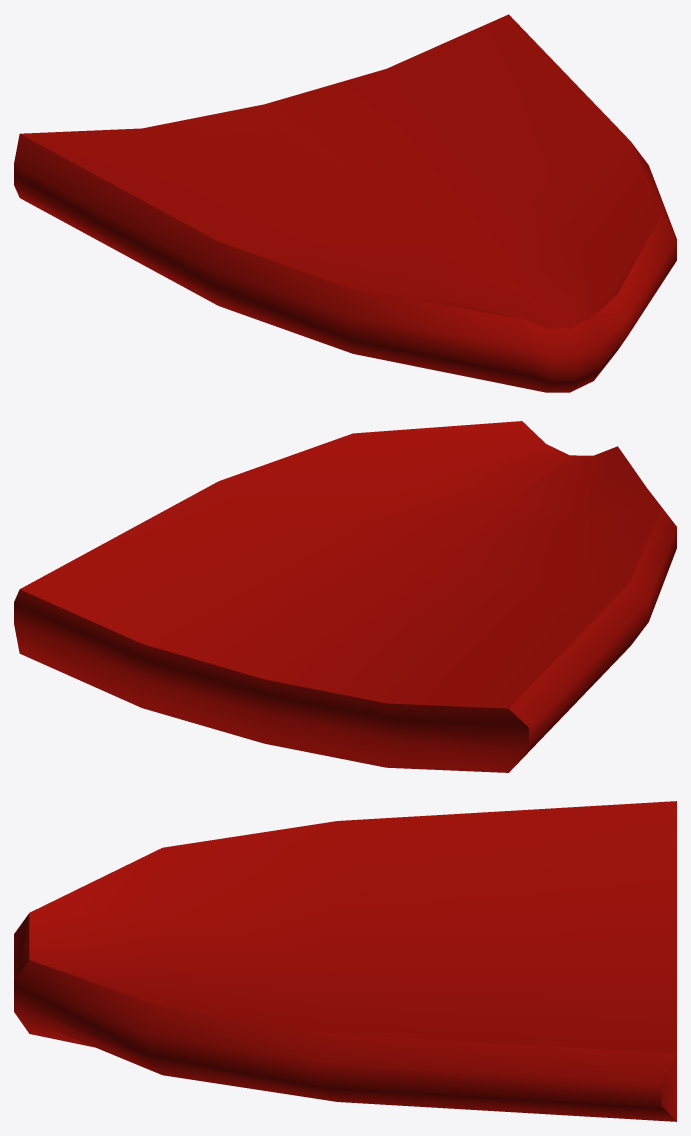
Rendered from LinguaDaVitoria.fbx.
The picture shows the model from 3 angles, top to bottom: view 1: azimuth 30°, elevation 25°; view 2: azimuth 150°, elevation 25°; view 3: azimuth 270°, elevation 25°; orthographic projection. The views are drawn at different scales.
Parts seen in each view (by area): view 1: LinguaDaVitoria; view 2: LinguaDaVitoria; view 3: LinguaDaVitoria.
Boxes of the visible parts, x1,y1,x2,y2 form: LinguaDaVitoria: (14,14,676,392); LinguaDaVitoria: (14,421,676,772); LinguaDaVitoria: (14,801,676,1121).
Size of the model in its own units: 138 by 24.29 by 146.
